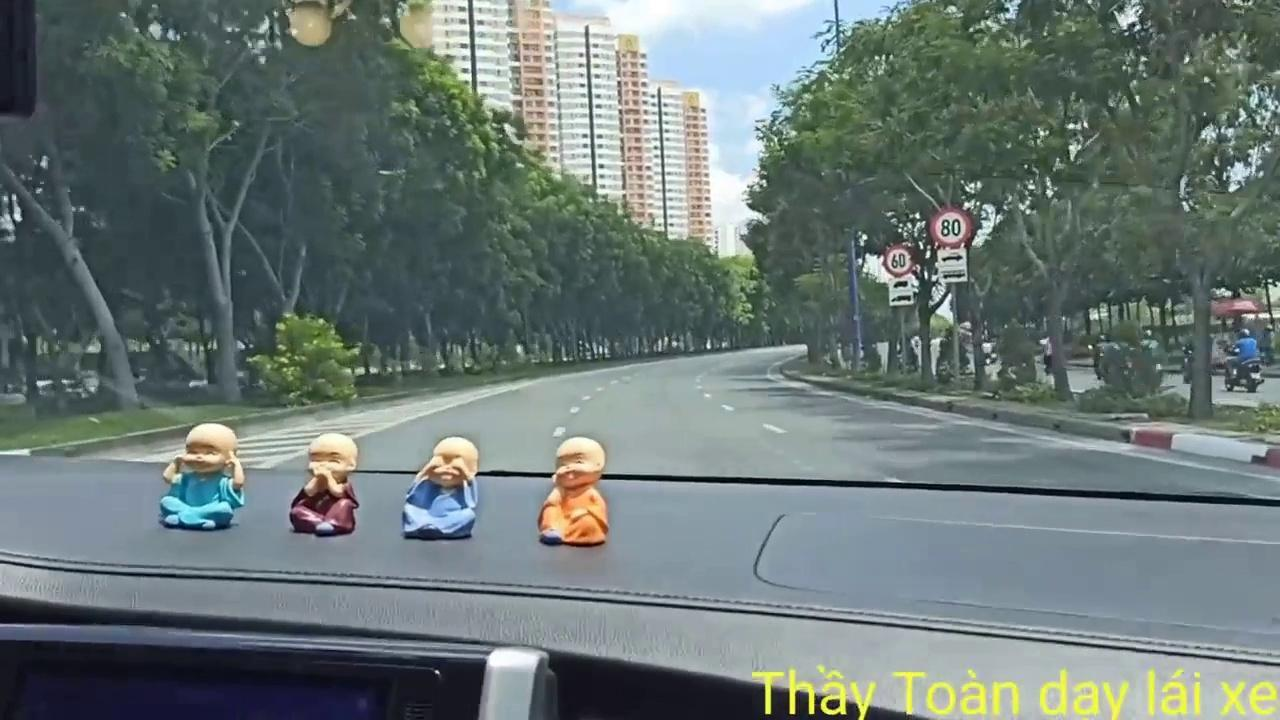Biển phụ: (934, 248, 970, 284), (886, 279, 914, 306)
GIơi hạn tốc độ 60Km/h: (884, 241, 914, 278)
Giới hạn tốc độ 80Km/h: (928, 204, 974, 248)
